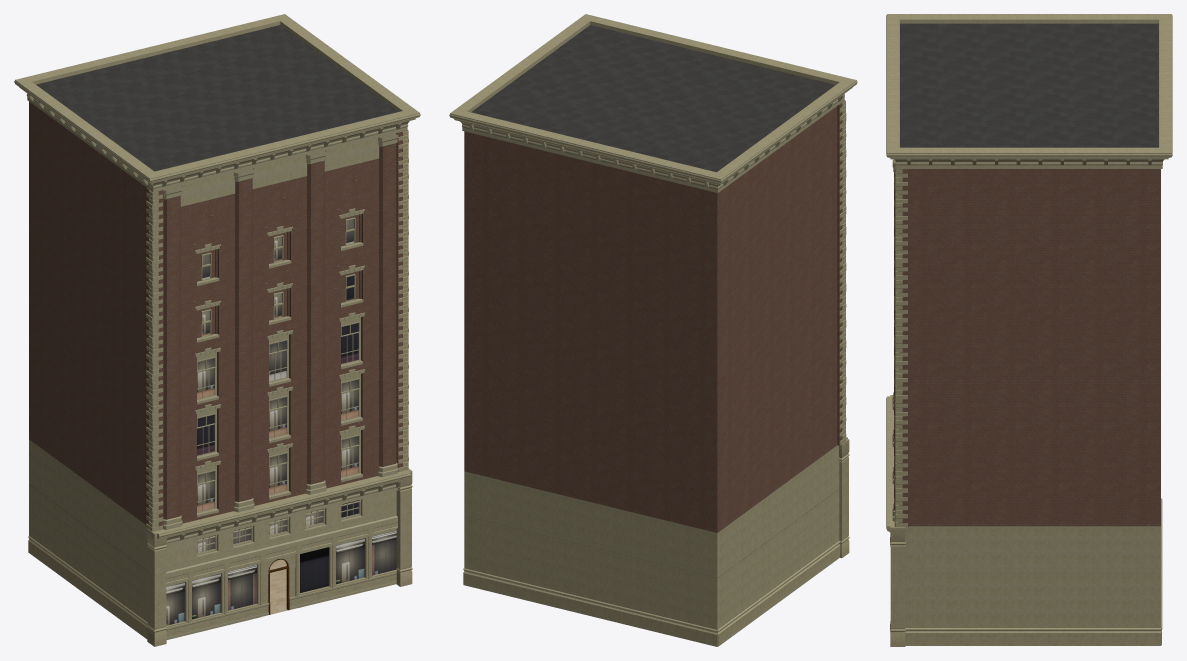
File: Building_Medium_2_001.gltf
The picture shows the model from 3 angles, left to right: view 1: azimuth 30°, elevation 25°; view 2: azimuth 150°, elevation 25°; view 3: azimuth 270°, elevation 25°; orthographic projection. The views are drawn at different scales.
Visible parts, largest first — view 1: Building_Medium_2.001; view 2: Building_Medium_2.001; view 3: Building_Medium_2.001.
Boxes of the visible parts, x1,y1,x2,y2 form: Building_Medium_2.001: (14,14,420,646); Building_Medium_2.001: (449,14,857,646); Building_Medium_2.001: (886,14,1172,646).
Size of the model in its own units: 15.06 by 25.01 by 13.06.
Materials: 12 (11 with a texture image).
